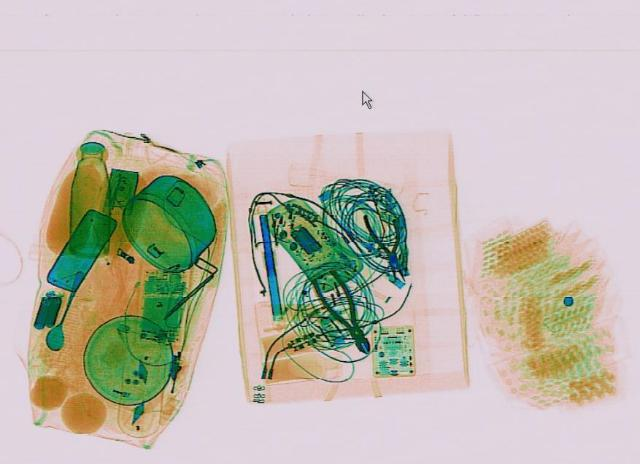Pliers: (304, 266, 382, 355), (360, 209, 414, 281)
